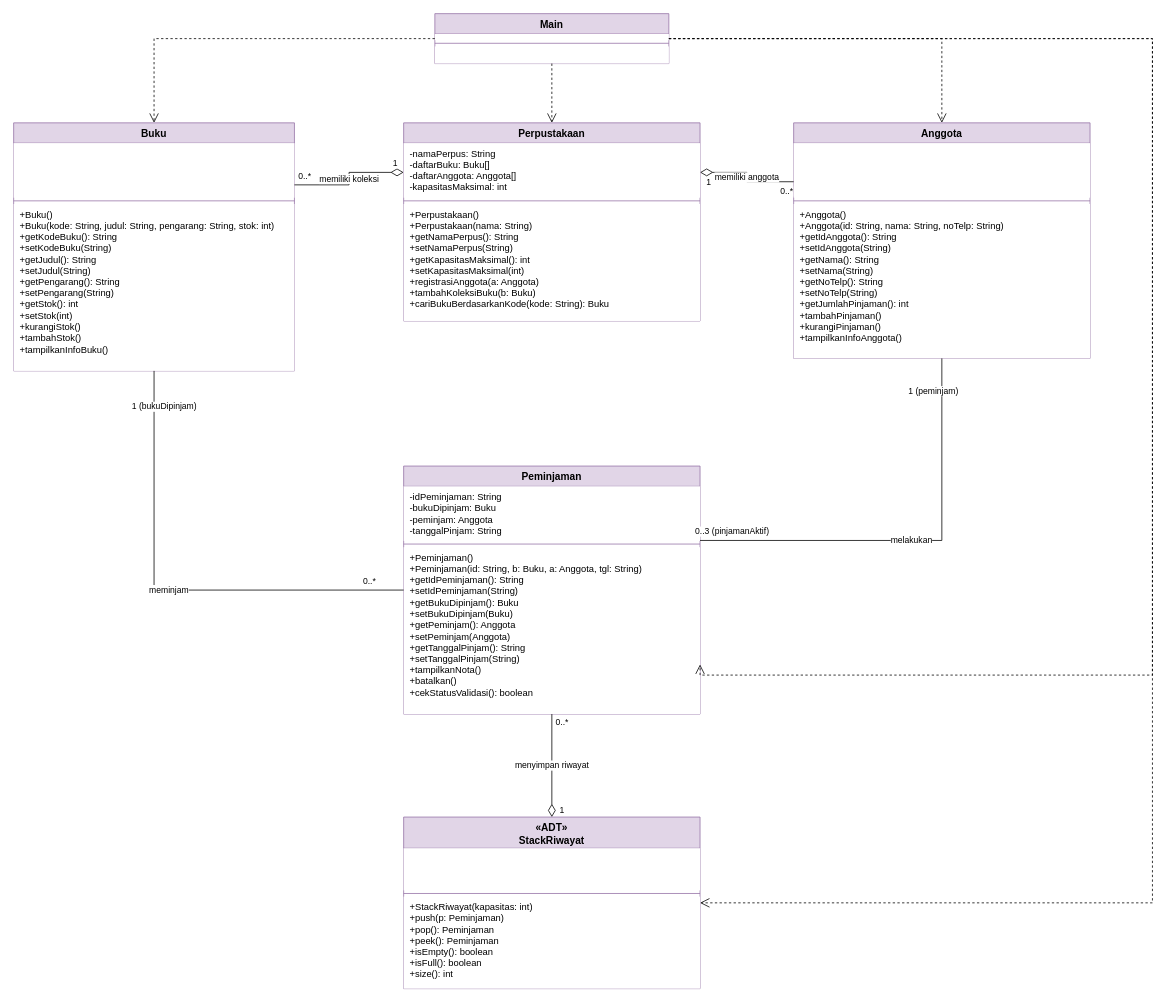
Some shapes in this 1175 by 1005 pixel diagram are drawn without their labels. Each missing label, with the box of its shape:
+main(args: String[]): (434, 46, 668, 63)
-dataTransaksi: Peminjaman[] -top: int -kapasitas: int: (403, 848, 700, 890)
-idAnggota: String -nama: String -noTelp: String -jumlahPinjaman: int: (793, 143, 1090, 197)
-kodeBuku: String -judul: String -pengarang: String -stok: int: (13, 143, 294, 197)
